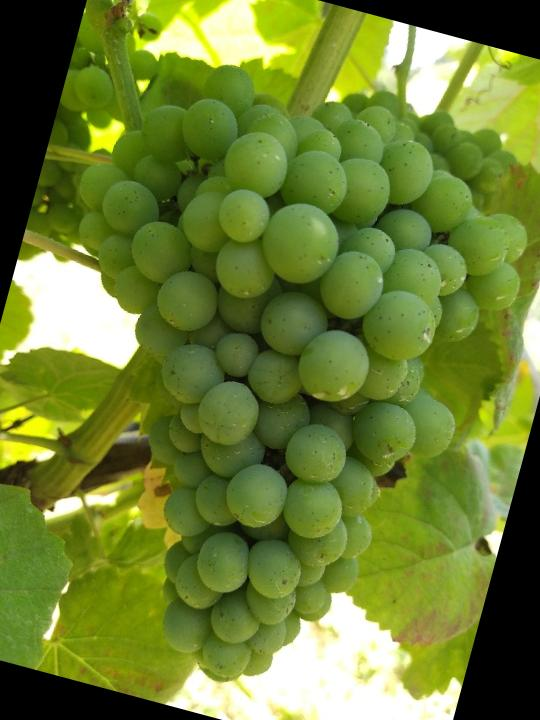grape: (0, 33, 540, 720)
